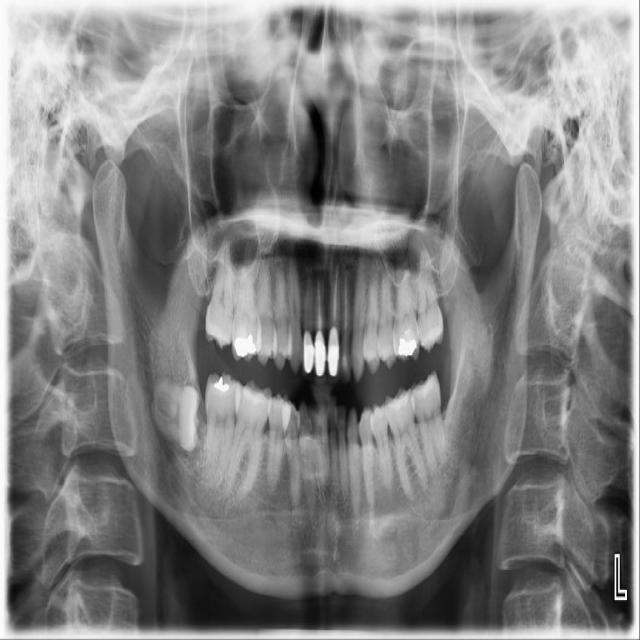52: (201, 370, 244, 422), (232, 315, 261, 364), (393, 320, 420, 362), (313, 333, 329, 382), (325, 339, 342, 382), (302, 333, 314, 380)
73: (329, 265, 340, 346), (341, 272, 350, 357), (315, 278, 323, 343), (618, 611, 628, 621)
BioHorizons Implant: (417, 239, 444, 351)
Blue Sky Bio Implant: (409, 371, 451, 483)
Caries: (204, 236, 235, 347)
Implant: (201, 371, 243, 489)
Keystone Dental Implant: (150, 379, 200, 452)
